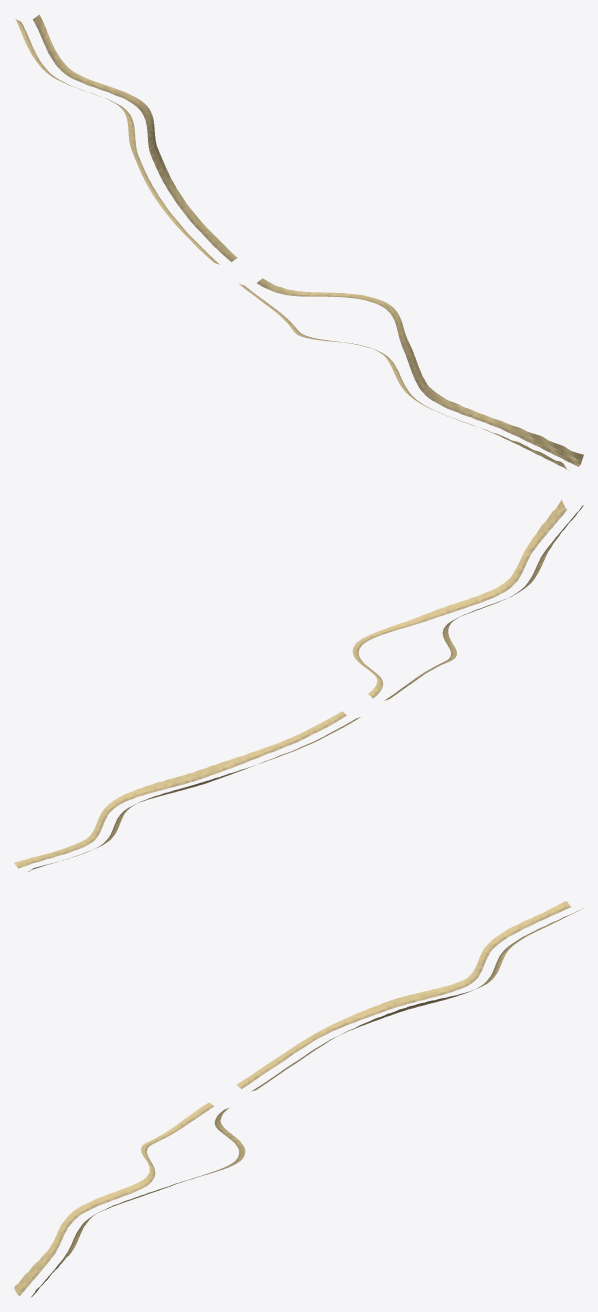
Rendered from stream_banks.glb.
3 renders of one model, top to bottom at view 1: azimuth 30°, elevation 25°; view 2: azimuth 150°, elevation 25°; view 3: azimuth 330°, elevation 25°, orthographic. The views are drawn at different scales.
Visible parts, largest first — view 1: stream_banks; view 2: stream_banks; view 3: stream_banks.
Boxes of the visible parts, left/top/right/bottom form: stream_banks: left=15, top=14, right=583, bottom=470; stream_banks: left=14, top=500, right=583, bottom=871; stream_banks: left=14, top=901, right=583, bottom=1297.
Size of the model in its own units: 89.05 by 15.57 by 772.
1 material, 1 textured.
